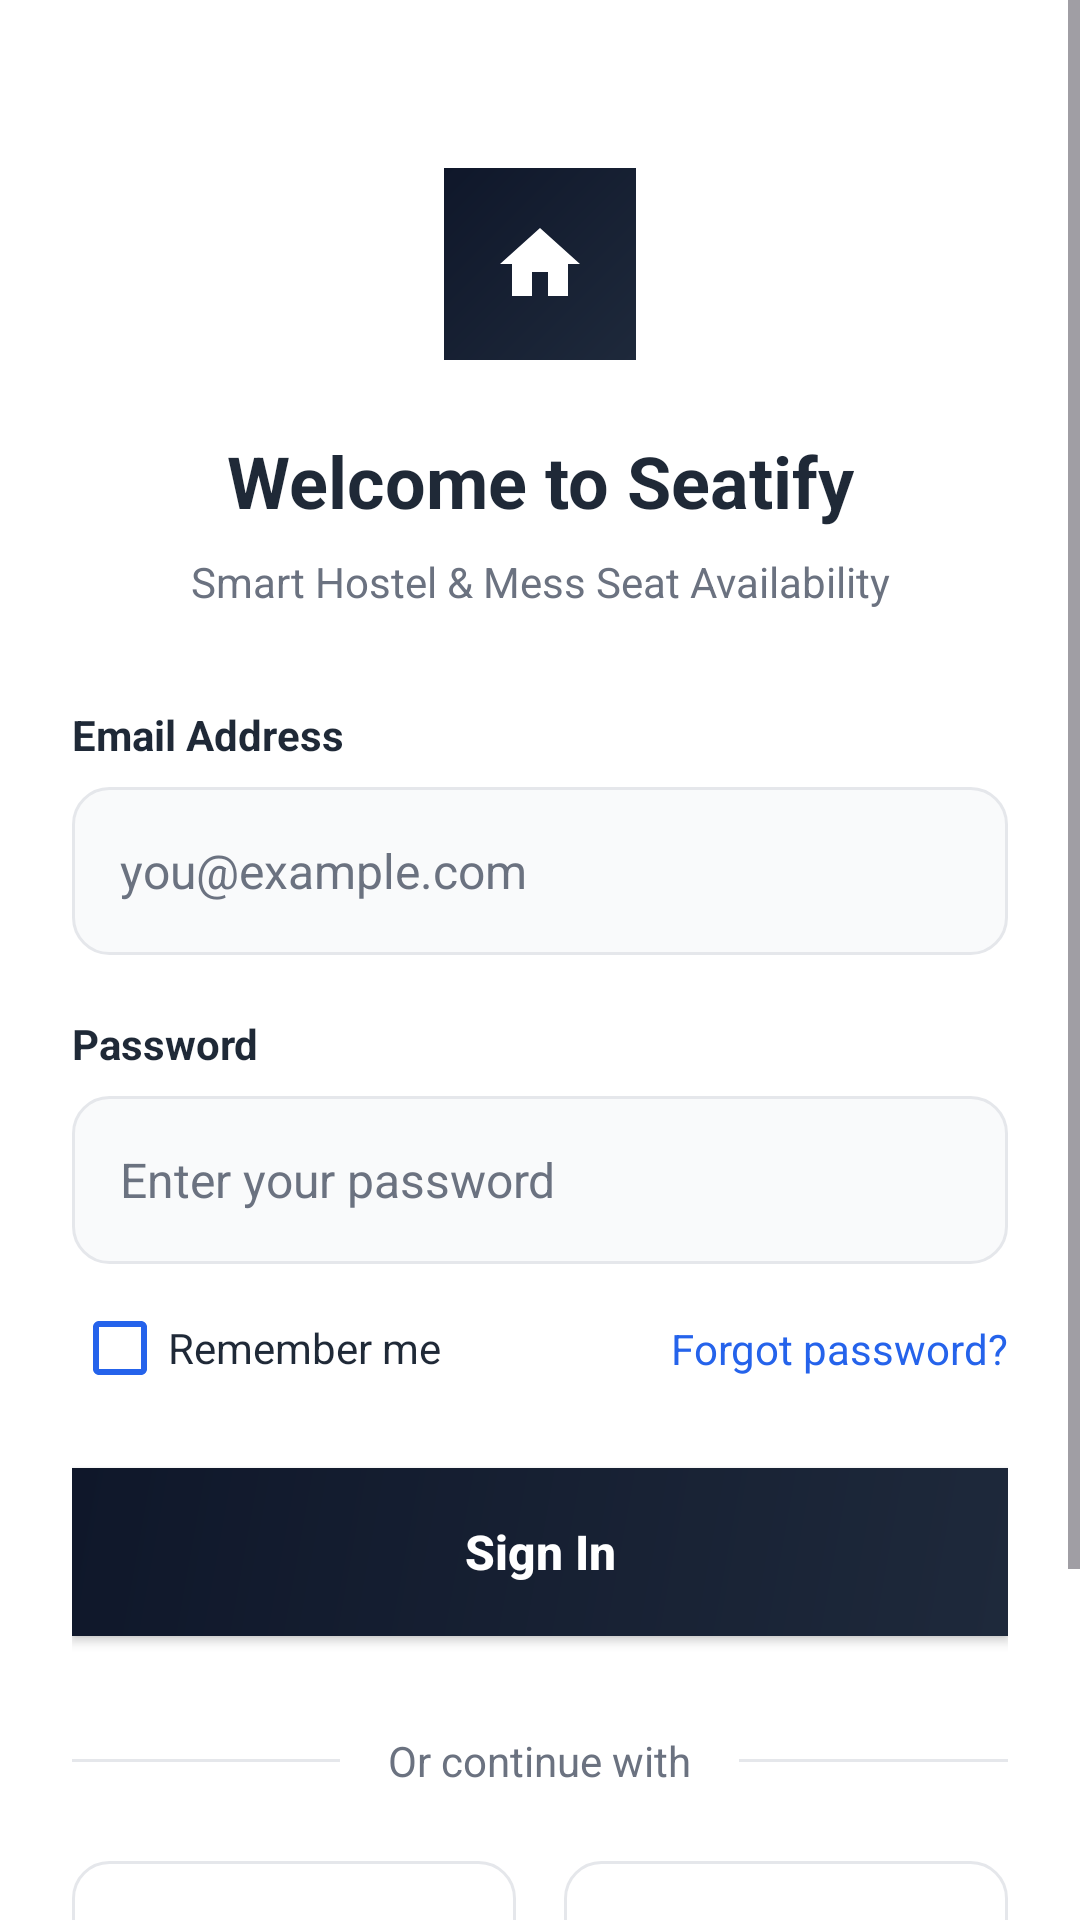

Where icons sit on this 1080w x 1920h app screen, as (x1, y1, x2, y2):
Home Icon: (500, 228, 580, 296)
